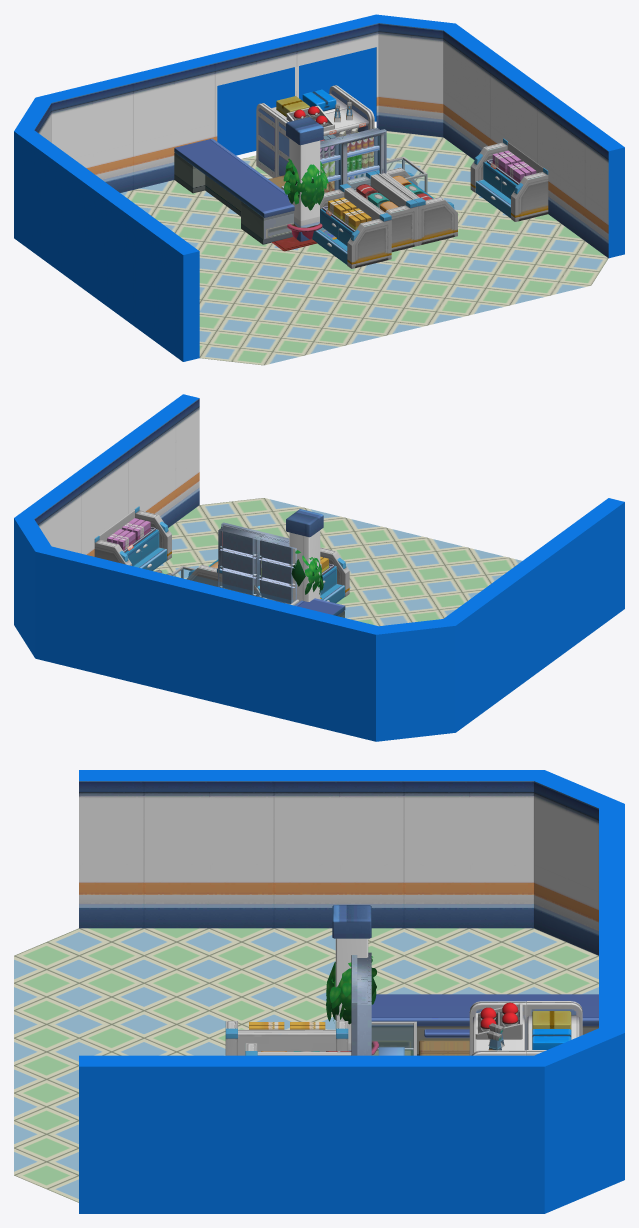
3 views of the same model, one above another, from view 1: azimuth 30°, elevation 25°; view 2: azimuth 150°, elevation 25°; view 3: azimuth 270°, elevation 25° (orthographic). The views are drawn at different scales.
Parts seen in each view (by area): view 1: SM_RO_006_Floor_01_0, SM_RO_006_Wall_01_0, SM_RO_006_Wall_01_1, SM_RO_072_Bookshelf_02_0 (×2), SM_RO_072_Counter_03_0, SM_RO_006_CoolCase_01_0, SM_RO_006_Showcase_01, SM_RO_072_Bookshelf_01_1, SM_RO_072_Bookshelf_01, SM_RO_006_ComPillar_01_0, SM_C_001_Implant_01_0, SM_RO_006_Showcase_02 (+3 smaller); view 2: SM_RO_006_Wall_01_1, SM_RO_006_Floor_01_0, SM_RO_006_Wall_01_0, SM_RO_006_CoolCase_01_0, SM_RO_072_Bookshelf_02_0 (×2), SM_RO_006_ComPillar_01_0, SM_RO_006_Accessory_03, SM_C_001_Implant_01_0, SM_RO_072_Bookshelf_01, SM_RO_072_Counter_03_0; view 3: SM_RO_006_Wall_01_1, SM_RO_006_Wall_01_0, SM_RO_006_Floor_01_0, SM_RO_072_Counter_03_0, SM_RO_072_Bookshelf_02_0, SM_RO_006_Showcase_01, SM_RO_006_CoolCase_01_0, SM_RO_006_ComPillar_01_0, SM_RO_006_Accessory_01, SM_RO_006_Showcase_02, SM_C_001_Implant_01_0, SM_RO_081_CardBoard_01_0 (+3 smaller).
Boxes of the visible parts, box(x1,y1,x2,y2) form: SM_RO_006_Floor_01_0: box(120, 127, 608, 365); SM_RO_006_Wall_01_0: box(34, 23, 608, 257); SM_RO_006_Wall_01_1: box(14, 14, 624, 361); SM_RO_072_Bookshelf_02_0 (×2): box(312, 138, 548, 268); SM_RO_072_Counter_03_0: box(174, 138, 294, 244); SM_RO_006_CoolCase_01_0: box(320, 128, 386, 192); SM_RO_006_Showcase_01: box(256, 85, 353, 177); SM_RO_072_Bookshelf_01_1: box(347, 171, 417, 252); SM_RO_072_Bookshelf_01: box(375, 167, 457, 245); SM_RO_006_ComPillar_01_0: box(286, 124, 323, 241); SM_C_001_Implant_01_0: box(283, 158, 328, 239); SM_RO_006_Showcase_02: box(277, 98, 374, 176); SM_RO_006_Wall_01_1: box(14, 394, 624, 741); SM_RO_006_Floor_01_0: box(153, 498, 521, 626); SM_RO_006_Wall_01_0: box(34, 398, 199, 556); SM_RO_006_CoolCase_01_0: box(218, 522, 296, 604); SM_RO_072_Bookshelf_02_0 (×2): box(94, 506, 349, 603); SM_RO_006_ComPillar_01_0: box(286, 516, 323, 605); SM_RO_006_Accessory_03: box(107, 518, 155, 552); SM_C_001_Implant_01_0: box(291, 550, 323, 594); SM_RO_072_Bookshelf_01: box(186, 559, 224, 588); SM_RO_072_Counter_03_0: box(295, 598, 345, 617); SM_RO_006_Wall_01_1: box(79, 770, 624, 1213); SM_RO_006_Wall_01_0: box(79, 781, 598, 955); SM_RO_006_Floor_01_0: box(14, 928, 598, 1202); SM_RO_072_Counter_03_0: box(371, 994, 598, 1055); SM_RO_072_Bookshelf_02_0: box(225, 1021, 348, 1055); SM_RO_006_Showcase_01: box(526, 1001, 582, 1055); SM_RO_006_CoolCase_01_0: box(351, 952, 371, 1055); SM_RO_006_ComPillar_01_0: box(332, 921, 371, 1051); SM_RO_006_Accessory_01: box(475, 1002, 522, 1050); SM_RO_006_Showcase_02: box(469, 1001, 526, 1055); SM_C_001_Implant_01_0: box(326, 956, 378, 1054); SM_RO_081_CardBoard_01_0: box(419, 1040, 469, 1055).
Bounding box in the file's own units: 10.8 × 2.85 × 9.4.
Materials: 18 (17 with a texture image).
